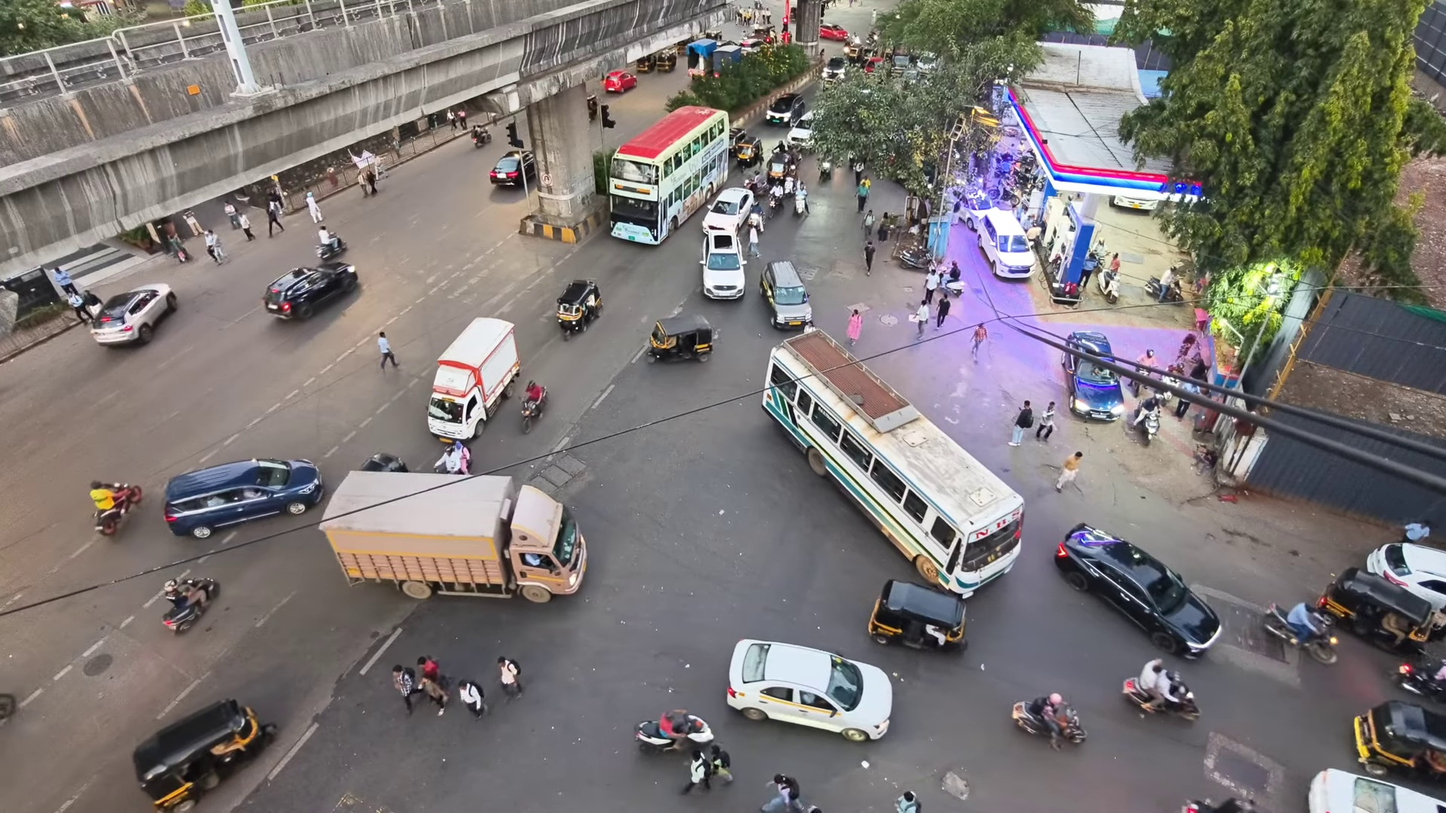driving: (334, 134, 1107, 684), (579, 223, 1108, 681), (579, 224, 1107, 544), (762, 329, 1023, 596), (319, 471, 585, 602), (1054, 523, 1222, 657), (608, 106, 730, 244), (727, 639, 892, 741), (133, 699, 276, 812), (164, 458, 324, 538), (428, 317, 520, 440), (1316, 567, 1445, 654), (1353, 700, 1445, 778), (867, 580, 966, 651), (1307, 769, 1445, 812), (263, 262, 358, 319), (1365, 543, 1445, 609), (90, 284, 176, 345), (1261, 603, 1338, 663), (1061, 352, 1124, 420), (977, 209, 1036, 279), (759, 260, 812, 328), (635, 709, 714, 754), (1121, 677, 1199, 720), (645, 314, 713, 363), (700, 231, 746, 299), (163, 578, 218, 633), (557, 279, 602, 340), (95, 484, 142, 535), (702, 187, 754, 233), (1396, 657, 1445, 702), (957, 182, 995, 231), (489, 150, 536, 187), (520, 383, 547, 434), (765, 93, 806, 126), (1011, 701, 1049, 736), (1130, 403, 1161, 445), (687, 38, 719, 76), (731, 131, 763, 166), (1181, 797, 1255, 812), (767, 151, 795, 189), (712, 44, 745, 75), (357, 452, 408, 472), (786, 111, 812, 150), (898, 243, 935, 270), (1110, 194, 1160, 212), (316, 233, 347, 261), (603, 72, 636, 93), (822, 56, 847, 83), (749, 24, 777, 44), (819, 23, 849, 41), (654, 50, 677, 72), (844, 35, 864, 60), (890, 53, 912, 75), (470, 126, 492, 148), (914, 52, 937, 73), (0, 693, 17, 720), (738, 38, 767, 53), (793, 188, 808, 216), (862, 54, 884, 73), (636, 54, 656, 73), (818, 157, 833, 181), (729, 127, 746, 147)
walking: (760, 775, 798, 812), (393, 666, 420, 714), (682, 748, 710, 794), (458, 680, 487, 719), (1008, 400, 1033, 445), (497, 656, 523, 699), (420, 676, 447, 714), (1056, 452, 1082, 491), (710, 744, 733, 784), (1036, 401, 1055, 440), (378, 332, 398, 369), (67, 293, 91, 323), (53, 266, 78, 294), (204, 229, 224, 263), (1402, 520, 1430, 543), (971, 323, 987, 361), (914, 300, 929, 340), (417, 656, 439, 683), (268, 199, 284, 236), (896, 790, 920, 812), (306, 191, 323, 222), (847, 309, 862, 344), (924, 268, 939, 303), (936, 296, 950, 330), (238, 213, 255, 240), (224, 202, 239, 230), (362, 167, 377, 194), (1174, 397, 1191, 419), (748, 226, 760, 257), (862, 209, 874, 239), (877, 212, 889, 242), (857, 179, 868, 211), (864, 240, 874, 275), (357, 170, 370, 196), (853, 161, 864, 184), (447, 109, 456, 129)
